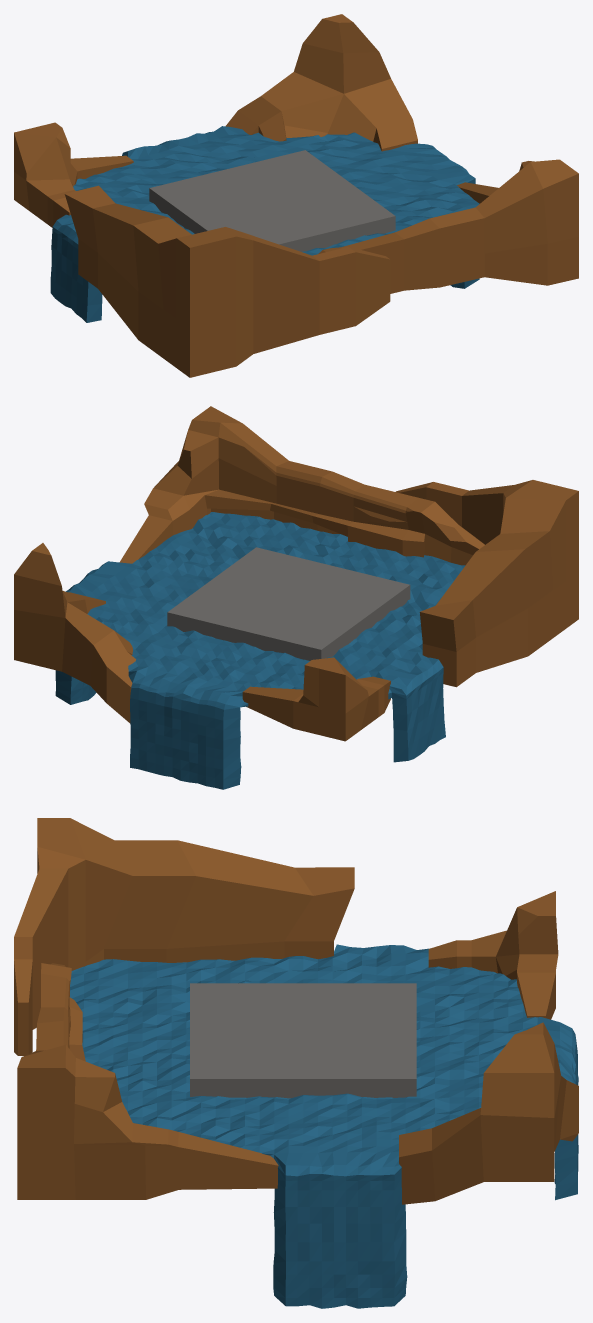
File: WaterArena2.fbx
The picture shows the model from 3 angles, top to bottom: view 1: azimuth 30°, elevation 25°; view 2: azimuth 150°, elevation 25°; view 3: azimuth 270°, elevation 25°; orthographic projection. The views are drawn at different scales.
Visible parts, largest first — view 1: Wall2, Water, Wall1, ArenaGround, Wall4, Wall3; view 2: Water, Wall2, Wall1, ArenaGround, Wall4, Wall3; view 3: Water, Wall2, Wall1, ArenaGround, Wall4, Wall3.
Part boxes in pixels (x1,y1,x2,y2): Wall2: [64, 185, 390, 377]; Water: [50, 126, 479, 322]; Wall1: [318, 159, 578, 293]; ArenaGround: [149, 150, 395, 251]; Wall4: [226, 14, 417, 151]; Wall3: [14, 122, 133, 227]; Water: [55, 512, 465, 789]; Wall2: [396, 480, 578, 687]; Wall1: [119, 406, 484, 565]; ArenaGround: [167, 547, 410, 660]; Wall4: [14, 543, 135, 723]; Wall3: [242, 657, 390, 741]; Water: [70, 944, 578, 1308]; Wall2: [14, 818, 354, 1055]; Wall1: [17, 963, 278, 1199]; ArenaGround: [190, 983, 416, 1098]; Wall4: [399, 1022, 578, 1204]; Wall3: [428, 891, 558, 1019].
Bounding box in the file's own units: 9876 × 4833 × 9734.
